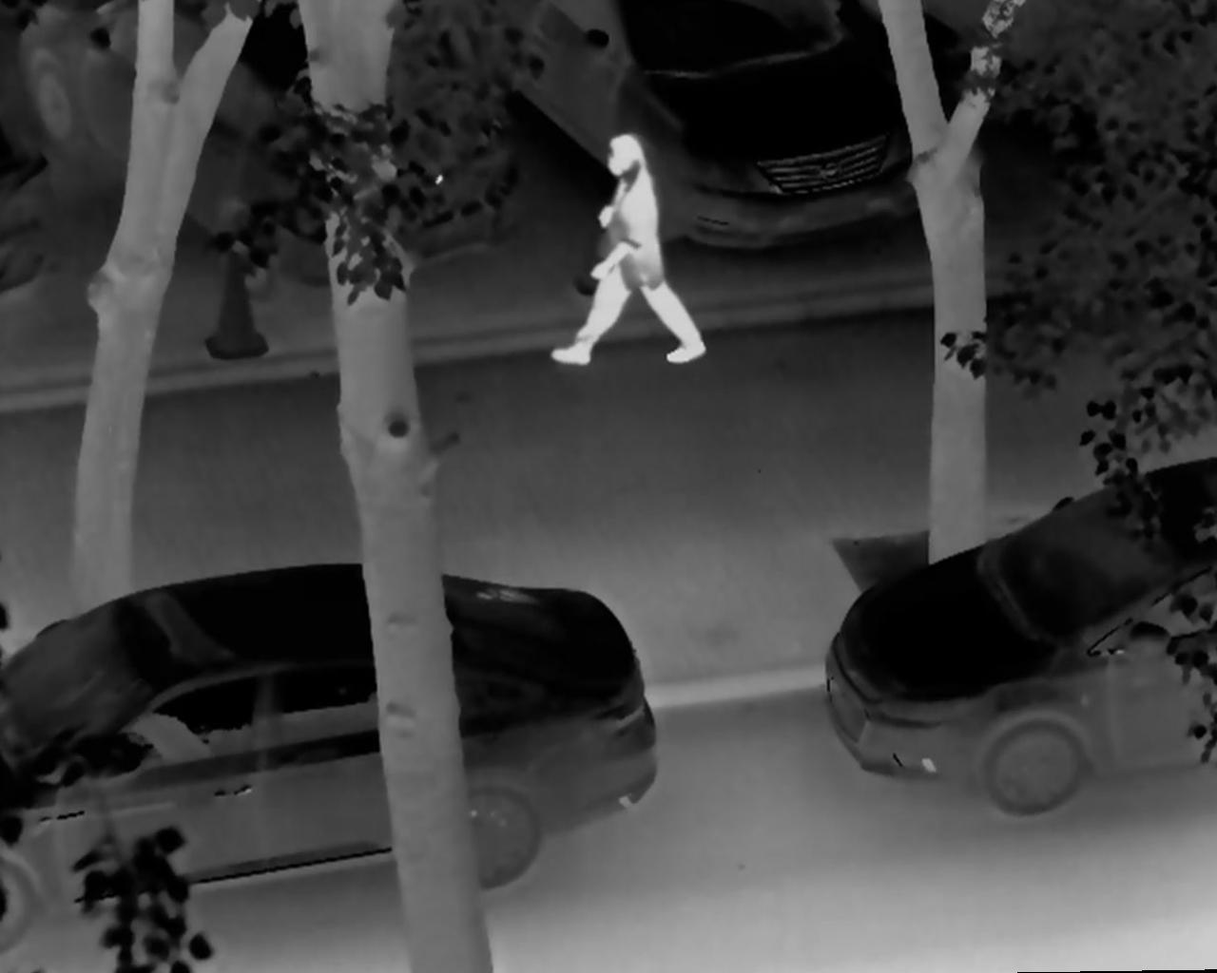person: (551, 130, 709, 371)
